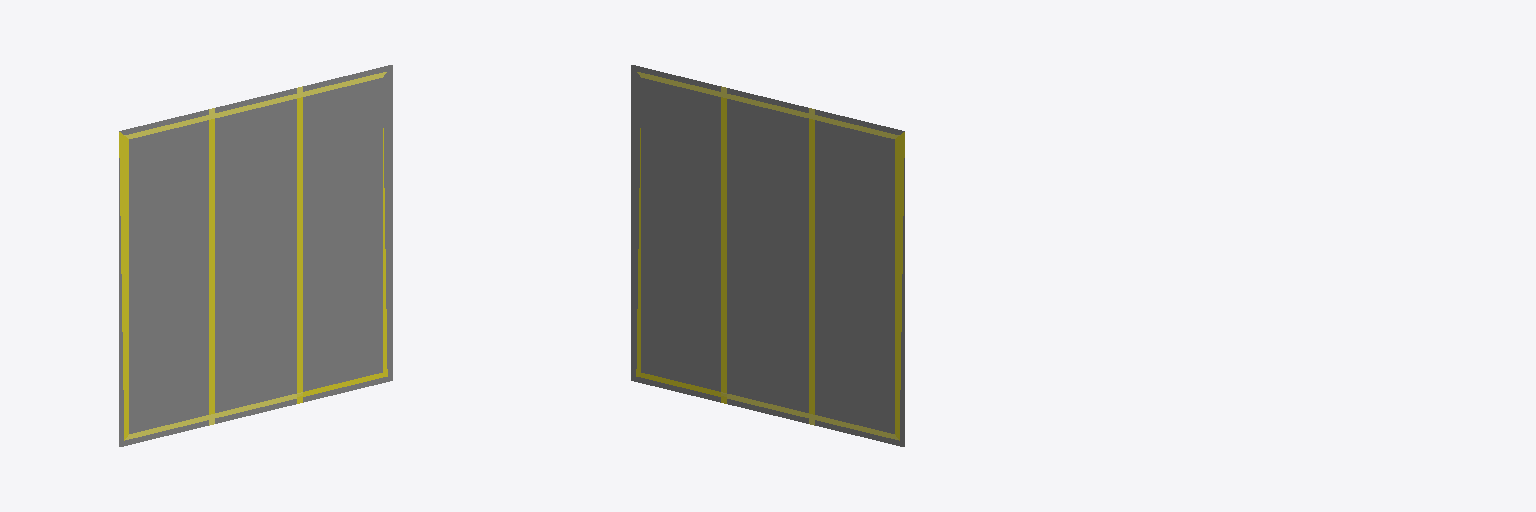
The picture shows the model from 3 angles: view 1: azimuth 30°, elevation 25°; view 2: azimuth 150°, elevation 25°; view 3: azimuth 270°, elevation 25°; orthographic projection.
Visible parts, largest first — view 1: hanger_road; view 2: hanger_road; view 3: none.
Boxes of the visible parts, x1=… form: hanger_road: x1=119, y1=65, x2=392, y2=446; hanger_road: x1=631, y1=65, x2=904, y2=446.
Bounding box in the file's own units: 0.2005 × 0.2213 × 0.
1 materials, 1 textured.